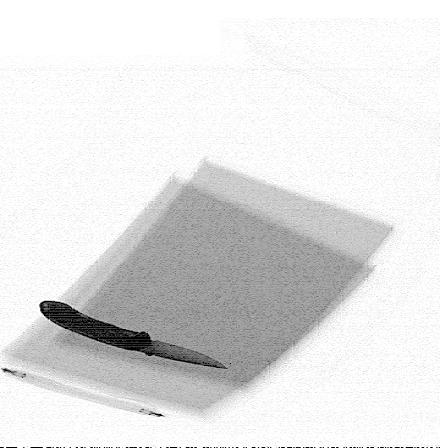Knife: (39, 300, 229, 369)
